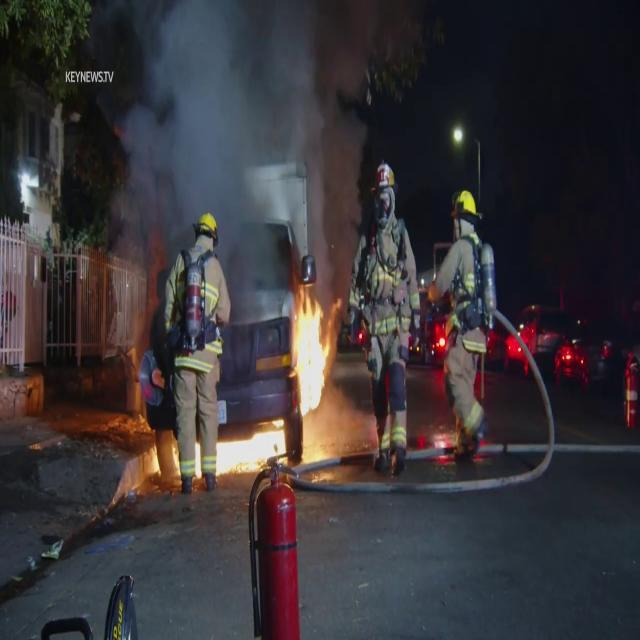Fire: (287, 282, 332, 418), (212, 416, 290, 480)
Smoke: (106, 0, 366, 292)
